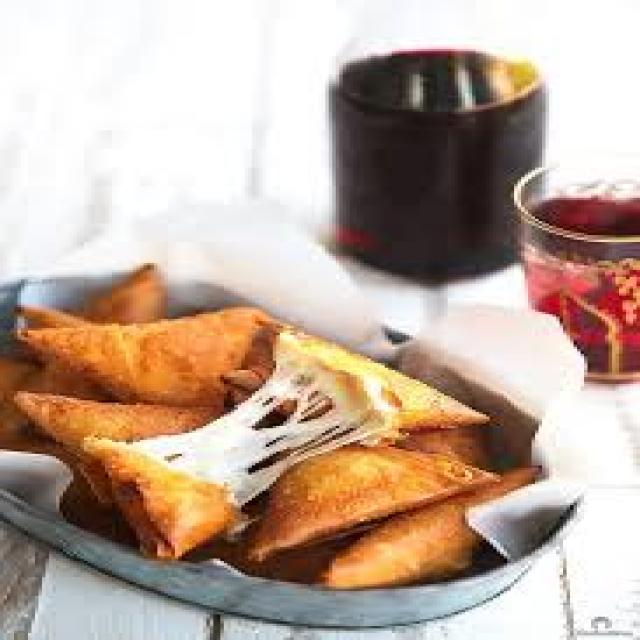SAMOSA: (246, 441, 496, 557), (319, 468, 549, 590), (27, 304, 266, 409)
